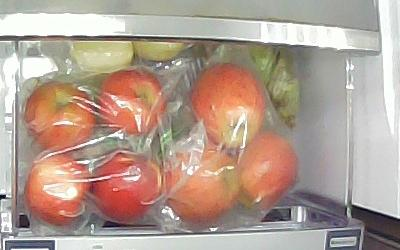apple_vinyl: (190, 64, 267, 151), (162, 144, 243, 225), (93, 150, 164, 227), (25, 81, 96, 152), (25, 155, 95, 226), (239, 133, 300, 213), (98, 70, 166, 137)
